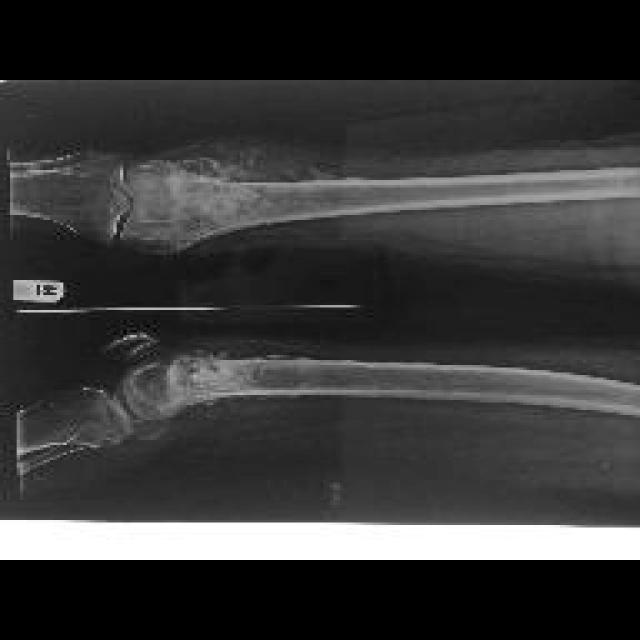bone-cancer: (172, 148, 380, 224), (162, 349, 325, 422)
